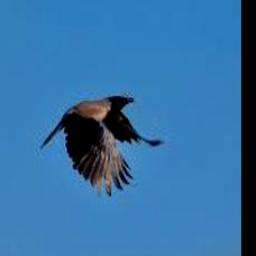Crow: (40, 94, 165, 195)
